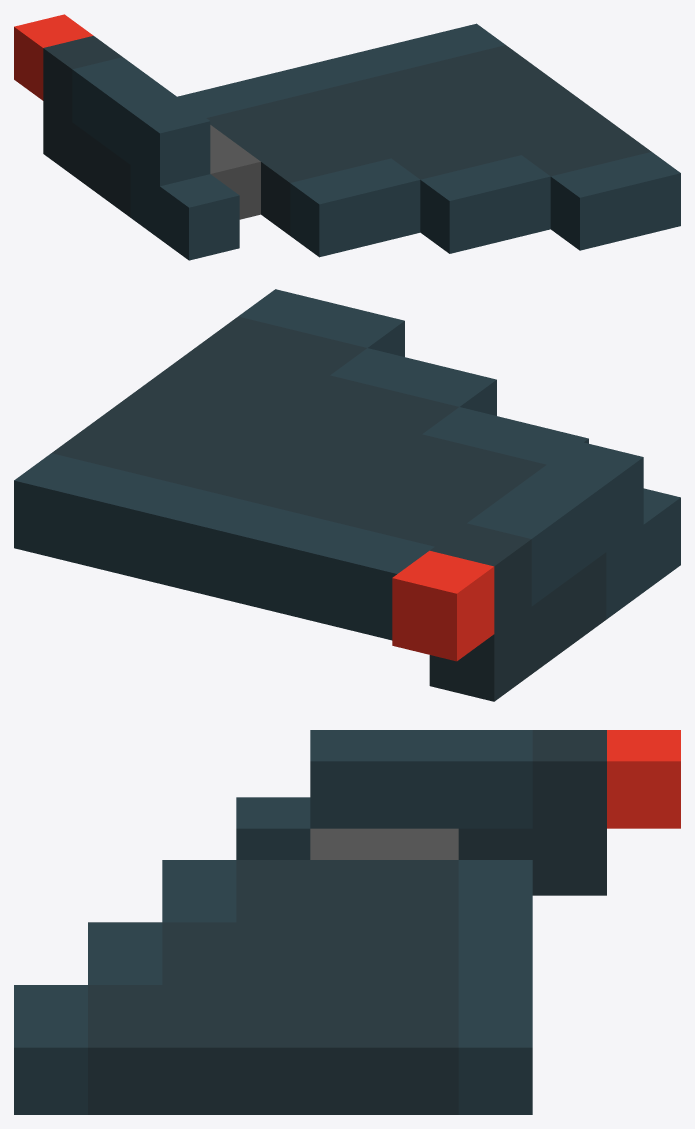
The model's file is Wing-27-InfraredFurtive_Wing2_R.obj.
3 views of the same model, one above another, from view 1: azimuth 30°, elevation 25°; view 2: azimuth 150°, elevation 25°; view 3: azimuth 270°, elevation 25° (orthographic). The views are drawn at different scales.
Visible parts, largest first — view 1: InfraredFurtive_Wing2_R; view 2: InfraredFurtive_Wing2_R; view 3: InfraredFurtive_Wing2_R.
Boxes of the visible parts, bbox=[...] form: InfraredFurtive_Wing2_R: bbox=[14, 14, 680, 260]; InfraredFurtive_Wing2_R: bbox=[14, 289, 680, 701]; InfraredFurtive_Wing2_R: bbox=[14, 730, 680, 1114].
Bounding box in the file's own units: 0.8 × 0.2 × 0.9.
1 material, 1 textured.
